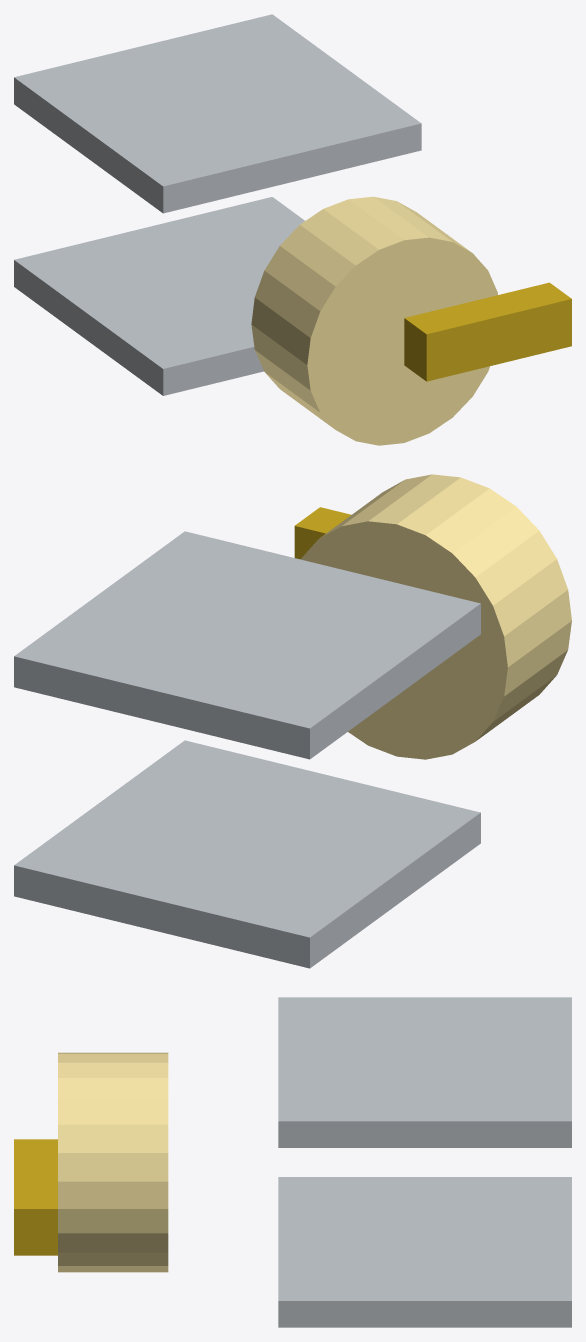
3 views of the same model, one above another, from view 1: azimuth 30°, elevation 25°; view 2: azimuth 150°, elevation 25°; view 3: azimuth 270°, elevation 25° (orthographic). The views are drawn at different scales.
Visible parts, largest first — view 1: model_7_NOSIMPLIFY; view 2: model_7_NOSIMPLIFY; view 3: model_7_NOSIMPLIFY.
Part boxes in pixels (bbox=[...]): model_7_NOSIMPLIFY: bbox=[14, 14, 571, 445]; model_7_NOSIMPLIFY: bbox=[14, 474, 571, 968]; model_7_NOSIMPLIFY: bbox=[14, 997, 571, 1327].
Size of the model in its own units: 0.085 by 0.062 by 0.152.
